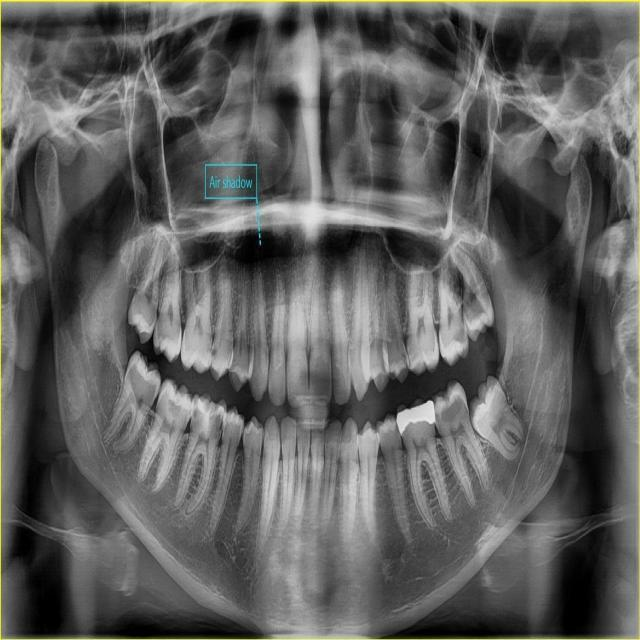NucleOSS Implant: (393, 399, 441, 436)
Sterngold Implant: (201, 396, 228, 450), (432, 392, 466, 429), (450, 321, 470, 357), (167, 396, 181, 421), (191, 402, 203, 431), (210, 340, 220, 361), (393, 420, 401, 438), (205, 338, 212, 357), (401, 348, 408, 364), (187, 405, 194, 421), (223, 418, 227, 438)
